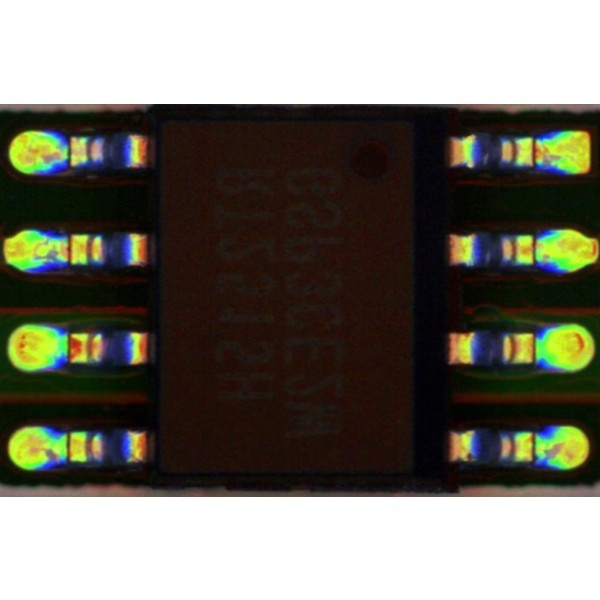Bad_podu: (514, 144, 558, 160), (52, 242, 86, 262)
